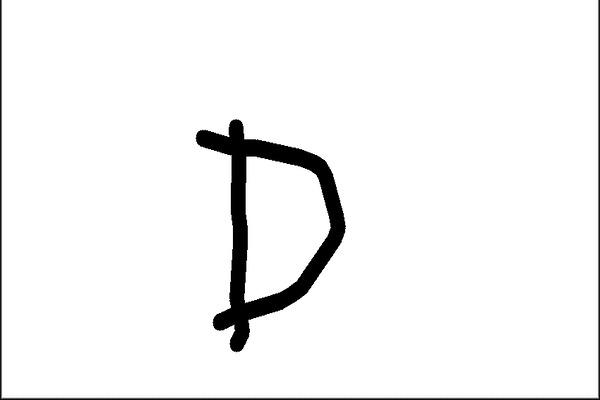D: (189, 114, 352, 353)
